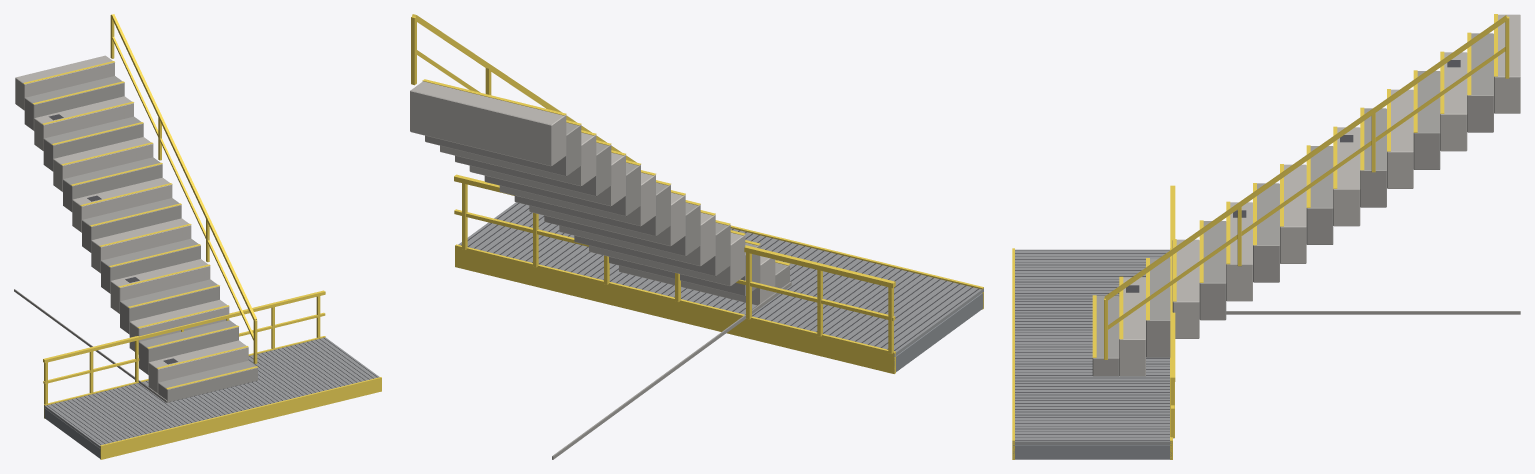
The model's file is dock_stair.glb.
3 views of the same model, side by side, from view 1: azimuth 30°, elevation 25°; view 2: azimuth 150°, elevation 25°; view 3: azimuth 270°, elevation 25° (orthographic). The views are drawn at different scales.
Parts seen in each view (by area): view 1: dk_stair_mesh, dk_landing_mesh; view 2: dk_stair_mesh, dk_landing_mesh; view 3: dk_stair_mesh, dk_landing_mesh.
Part boxes in pixels (x1=…): dk_stair_mesh: x1=14, y1=14, x2=257, y2=402; dk_landing_mesh: x1=43, y1=290, x2=381, y2=459; dk_stair_mesh: x1=410, y1=14, x2=791, y2=459; dk_landing_mesh: x1=454, y1=174, x2=983, y2=373; dk_stair_mesh: x1=1092, y1=14, x2=1520, y2=376; dk_landing_mesh: x1=1012, y1=185, x2=1175, y2=459.
Size of the model in its own units: 6.8 by 6.57 by 7.6.
